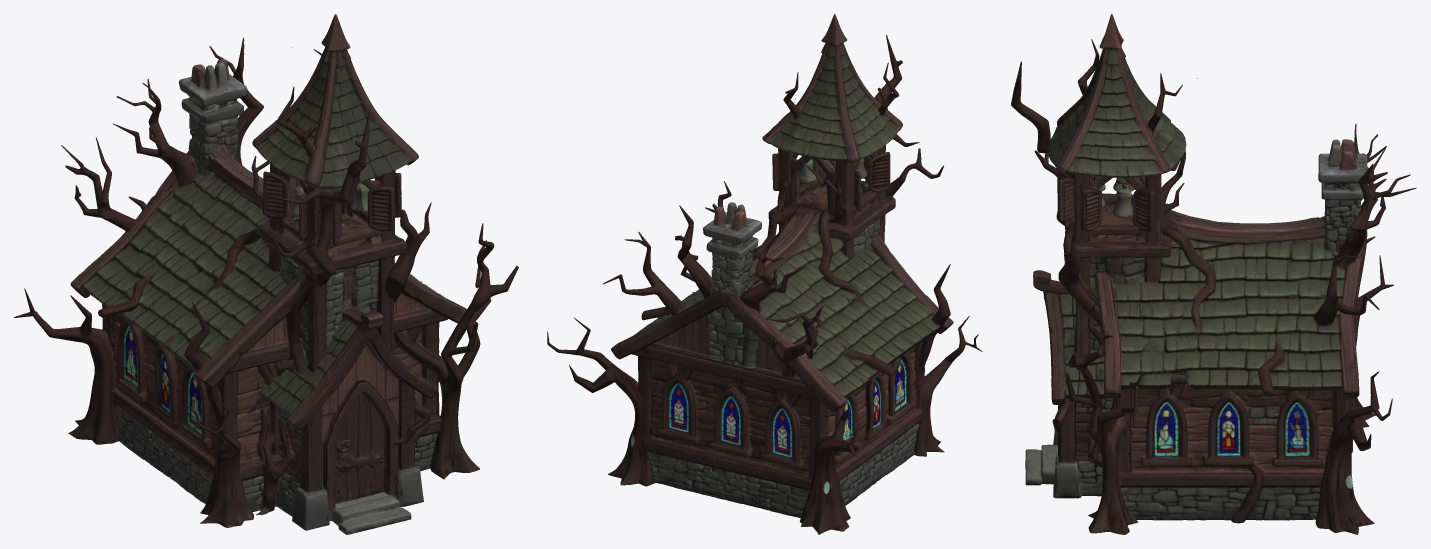
The model's file is rootbound_manor.glb.
3 renders of one model, left to right at view 1: azimuth 30°, elevation 25°; view 2: azimuth 150°, elevation 25°; view 3: azimuth 270°, elevation 25°, orthographic. The views are drawn at different scales.
Bounding box in the file's own units: 1.51 × 1.9 × 1.53.
1 material, 1 textured.
